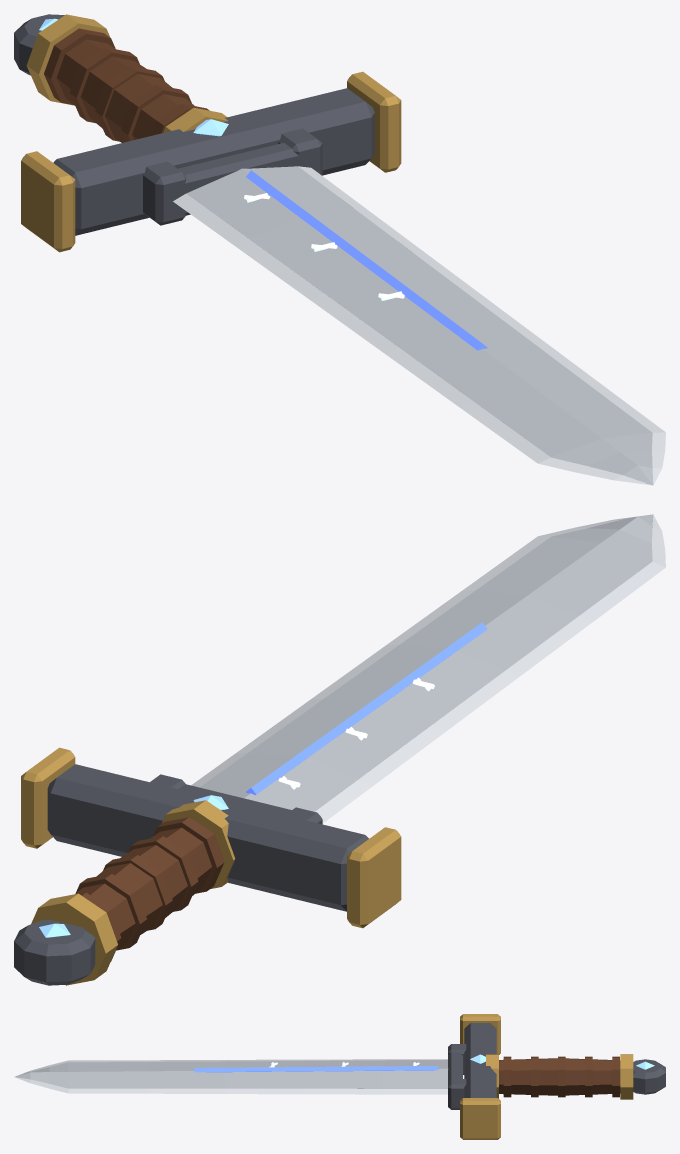
Rendered from Weapon_Broadsword.glb.
3 renders of one model, top to bottom at view 1: azimuth 30°, elevation 25°; view 2: azimuth 150°, elevation 25°; view 3: azimuth 270°, elevation 25°, orthographic. The views are drawn at different scales.
Visible parts, largest first — view 1: WpnBlade__WpnBlade, WpnMetal__WpnMetal, WpnEdge__WpnEdge, WpnTrim__WpnTrim, WpnGrip__WpnGrip, WpnInk__WpnInk; view 2: WpnBlade__WpnBlade, WpnMetal__WpnMetal, WpnTrim__WpnTrim, WpnGrip__WpnGrip, WpnEdge__WpnEdge, WpnInk__WpnInk; view 3: WpnBlade__WpnBlade, WpnGrip__WpnGrip, WpnMetal__WpnMetal, WpnEdge__WpnEdge, WpnTrim__WpnTrim, WpnInk__WpnInk.
Part boxes in pixels (x1=…): WpnBlade__WpnBlade: x1=186, y1=166, x2=653, y2=485; WpnMetal__WpnMetal: x1=14, y1=14, x2=374, y2=235; WpnEdge__WpnEdge: x1=173, y1=166, x2=665, y2=485; WpnTrim__WpnTrim: x1=21, y1=14, x2=401, y2=252; WpnGrip__WpnGrip: x1=44, y1=28, x2=209, y2=142; WpnInk__WpnInk: x1=246, y1=170, x2=487, y2=350; WpnBlade__WpnBlade: x1=200, y1=514, x2=653, y2=811; WpnMetal__WpnMetal: x1=14, y1=764, x2=368, y2=985; WpnTrim__WpnTrim: x1=21, y1=747, x2=401, y2=985; WpnGrip__WpnGrip: x1=75, y1=817, x2=224, y2=961; WpnEdge__WpnEdge: x1=191, y1=515, x2=665, y2=823; WpnInk__WpnInk: x1=246, y1=622, x2=487, y2=794; WpnBlade__WpnBlade: x1=15, y1=1060, x2=447, y2=1088; WpnGrip__WpnGrip: x1=499, y1=1056, x2=620, y2=1097; WpnMetal__WpnMetal: x1=448, y1=1023, x2=665, y2=1109; WpnEdge__WpnEdge: x1=14, y1=1059, x2=447, y2=1094; WpnTrim__WpnTrim: x1=460, y1=1014, x2=633, y2=1139; WpnInk__WpnInk: x1=194, y1=1066, x2=438, y2=1072.
Bounding box in the file's own units: 0.0195 × 0.0046 × 0.0601.
